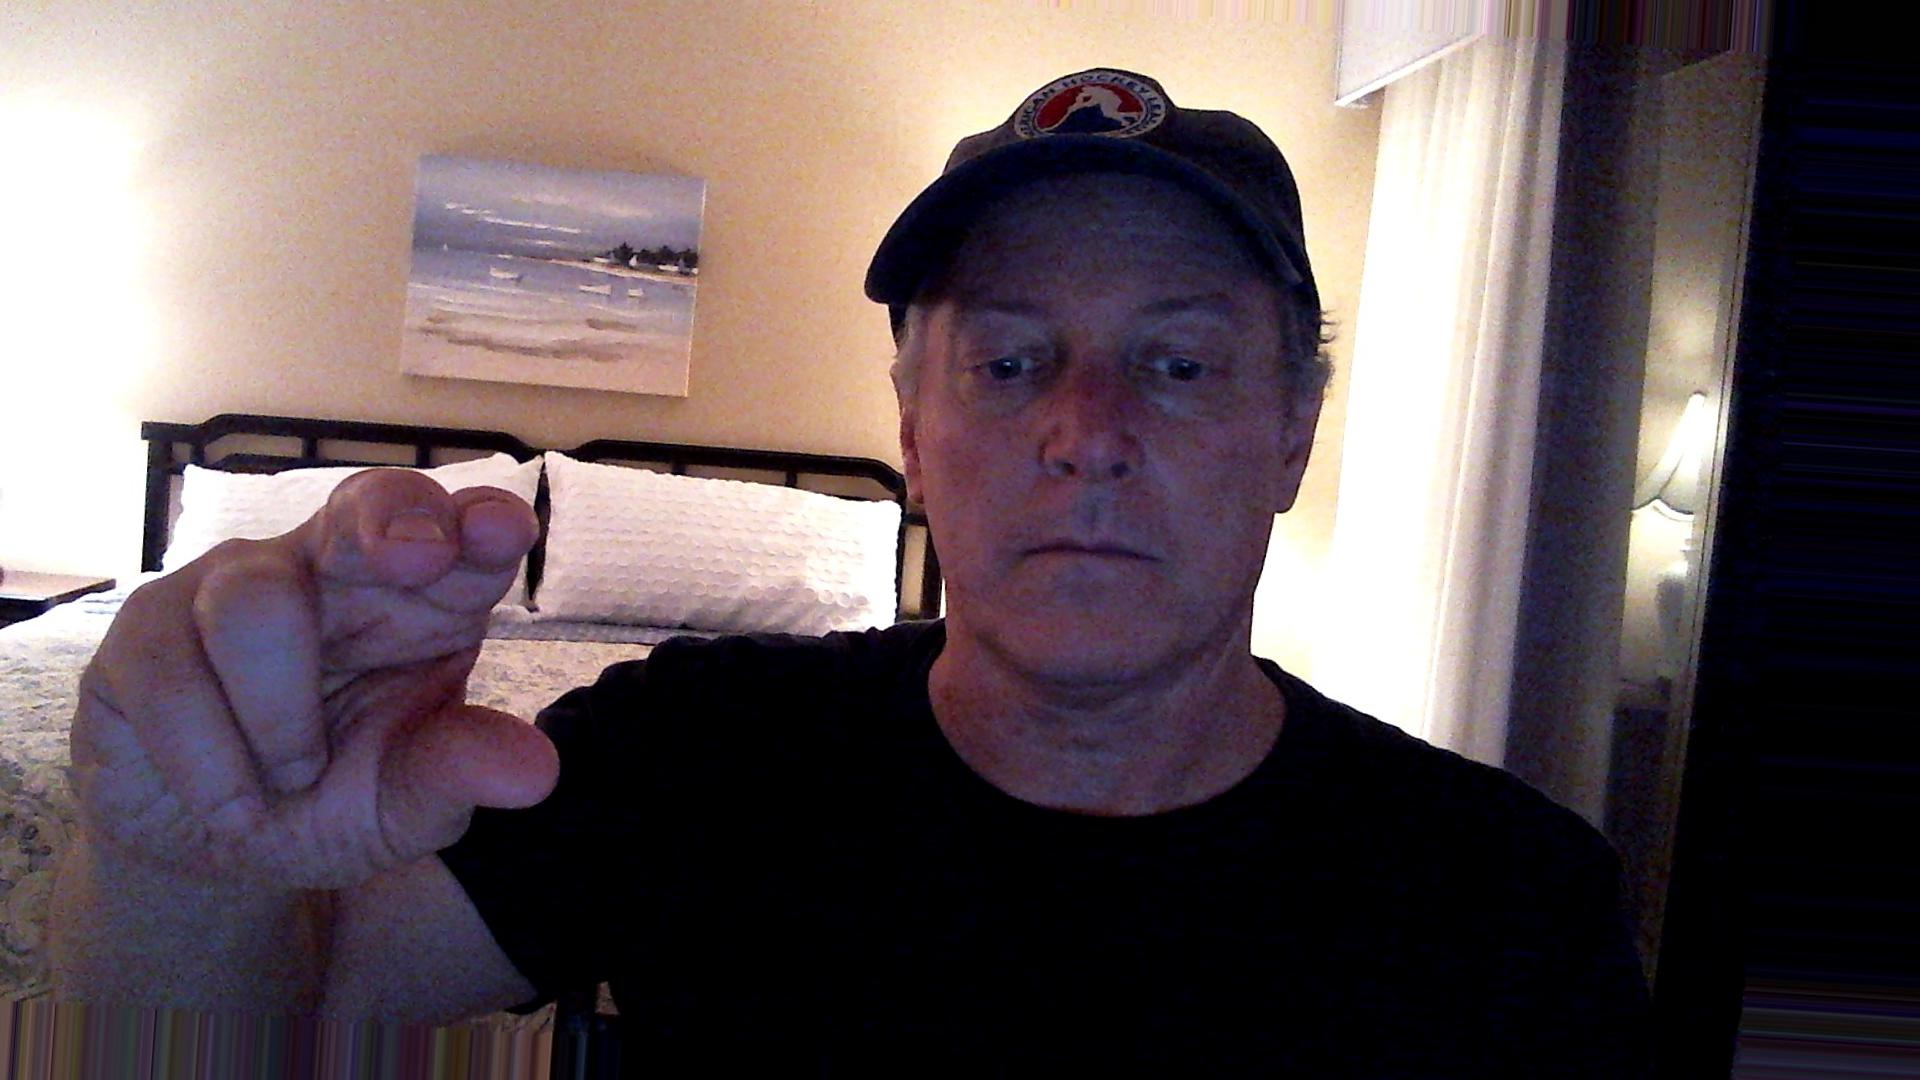No: (65, 447, 593, 923)
